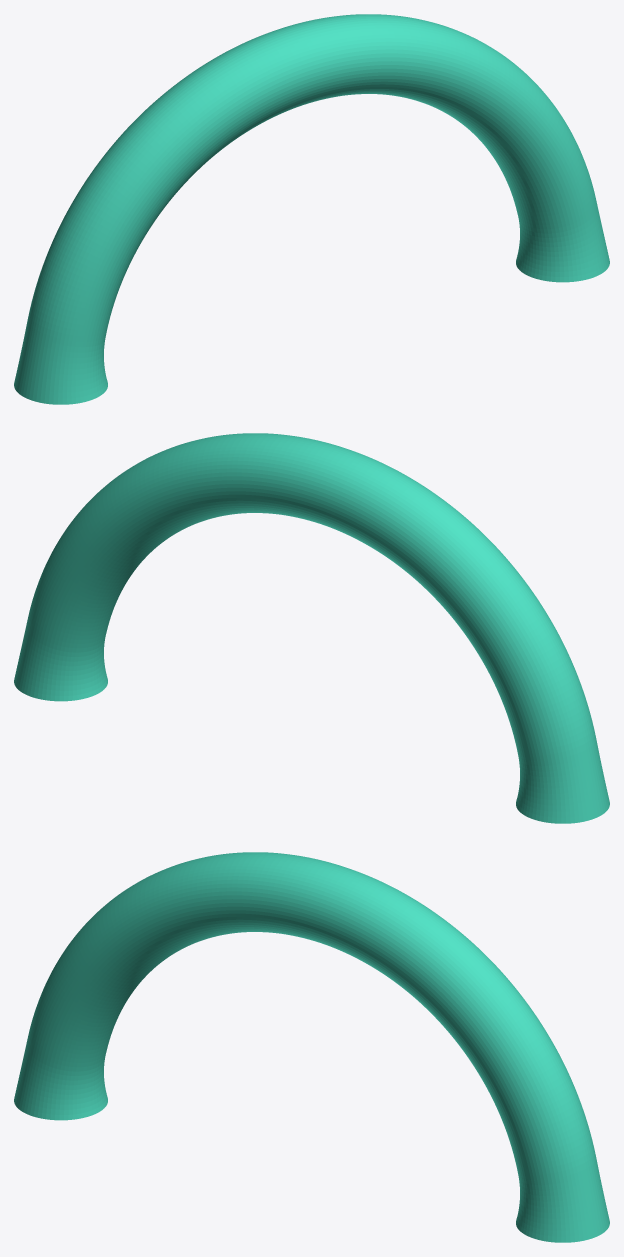
File: arch_cyan.glb
3 renders of one model, top to bottom at view 1: azimuth 30°, elevation 25°; view 2: azimuth 150°, elevation 25°; view 3: azimuth 330°, elevation 25°, orthographic.
Visible parts, largest first — view 1: geometry_0; view 2: geometry_0; view 3: geometry_0.
Part boxes in pixels (x1,y1,x2,y2): geometry_0: (14, 14, 609, 404); geometry_0: (14, 433, 609, 823); geometry_0: (14, 852, 609, 1242).
Size of the model in its own units: 10.46 by 5.12 by 1.46.
